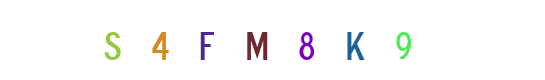4: (216, 0, 296, 80)
8: (232, 0, 312, 80)
9: (314, 0, 394, 80)
F: (216, 0, 296, 80)
K: (238, 0, 318, 80)
M: (224, 0, 304, 80)
S: (121, 0, 201, 80)
